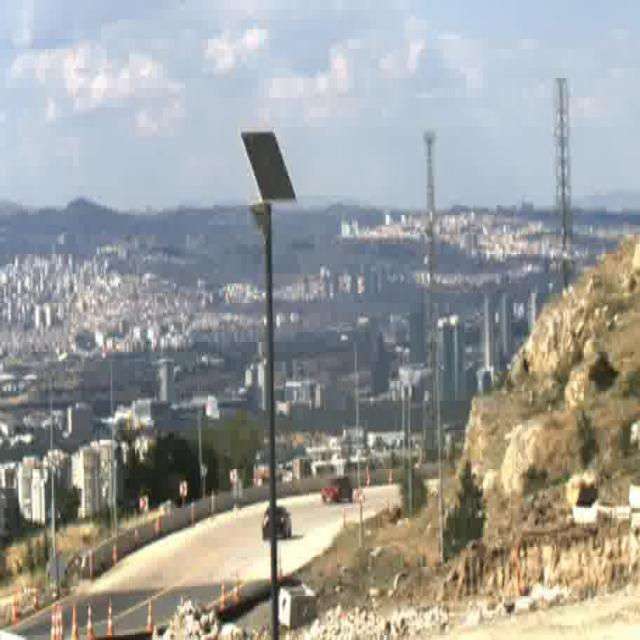Car: (263, 508, 291, 539), (323, 476, 351, 502)
